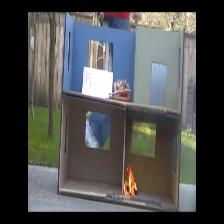fire: (123, 159, 137, 198)
